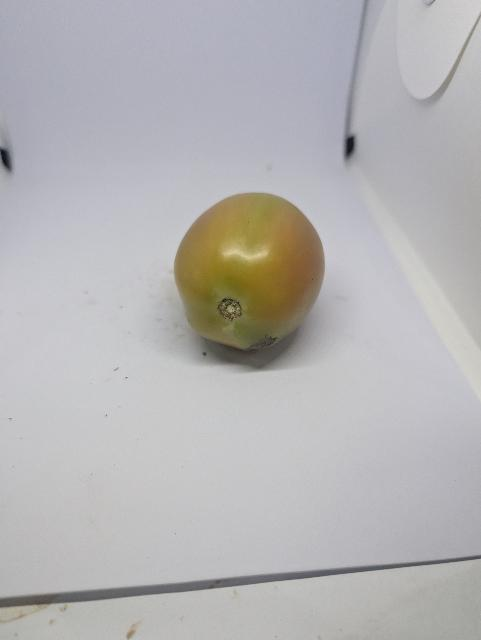breaker: (175, 193, 325, 352)
